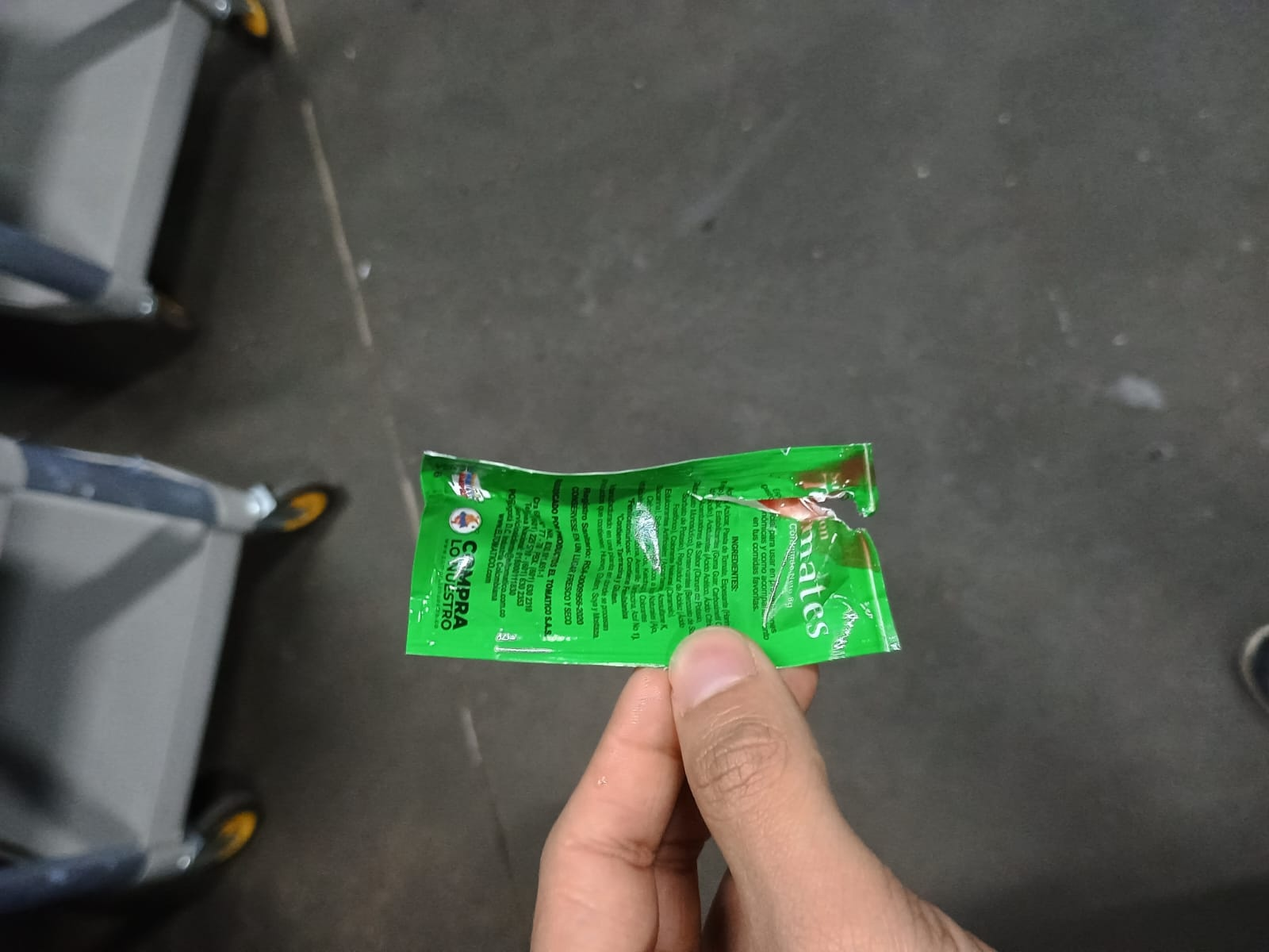Ordinario: (404, 443, 903, 669)
